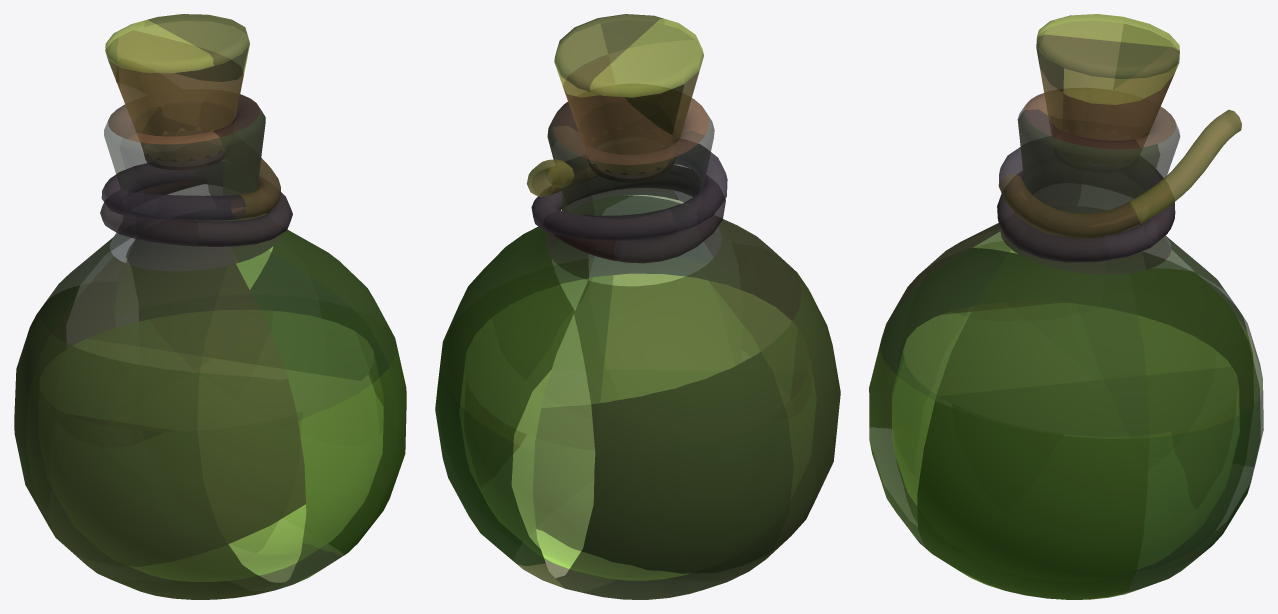
The model's file is Potion.glb.
The picture shows the model from 3 angles, left to right: view 1: azimuth 30°, elevation 25°; view 2: azimuth 150°, elevation 25°; view 3: azimuth 270°, elevation 25°; orthographic projection. The views are drawn at different scales.
Visible parts, largest first — view 1: Character.001; view 2: Character.001; view 3: Character.001.
Part boxes in pixels (<box>): Character.001: <box>14,14,406,599</box>; Character.001: <box>435,14,840,599</box>; Character.001: <box>869,14,1263,599</box>.
Size of the model in its own units: 0.1238 by 0.1841 by 0.1231.
1 material, 1 textured.
